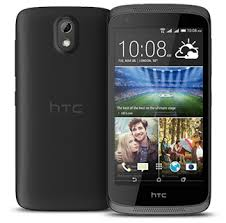htc: (108, 1, 211, 216), (14, 2, 108, 211)
